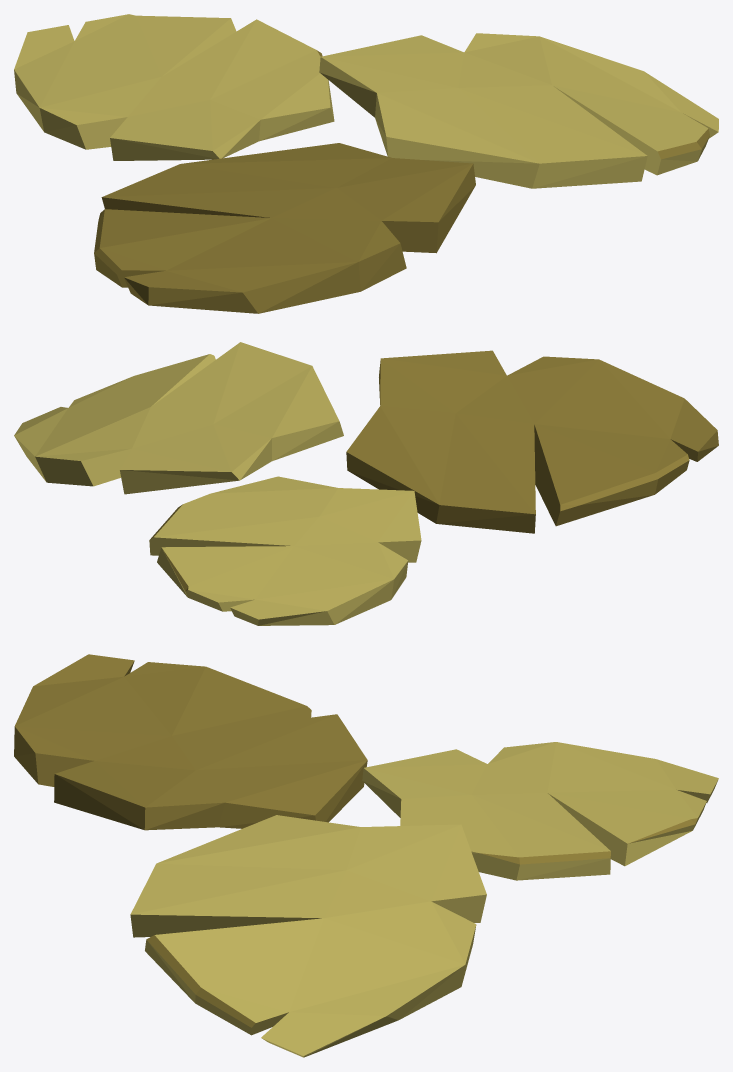
Rendered from EA_M_Env_Leaf_07a.fbx.
3 views of the same model, one above another, from view 1: azimuth 30°, elevation 25°; view 2: azimuth 150°, elevation 25°; view 3: azimuth 270°, elevation 25° (orthographic). The views are drawn at different scales.
Parts seen in each view (by area): view 1: EA_M_Env_Leaf_07a_LOD0; view 2: EA_M_Env_Leaf_07a_LOD0; view 3: EA_M_Env_Leaf_07a_LOD0.
Boxes of the visible parts, x1,y1,x2,y2 form: EA_M_Env_Leaf_07a_LOD0: [14, 14, 718, 313]; EA_M_Env_Leaf_07a_LOD0: [14, 342, 718, 625]; EA_M_Env_Leaf_07a_LOD0: [14, 654, 718, 1057].
Size of what is drawn, in the model's own units: 0.919 by 0.1306 by 0.8391.
